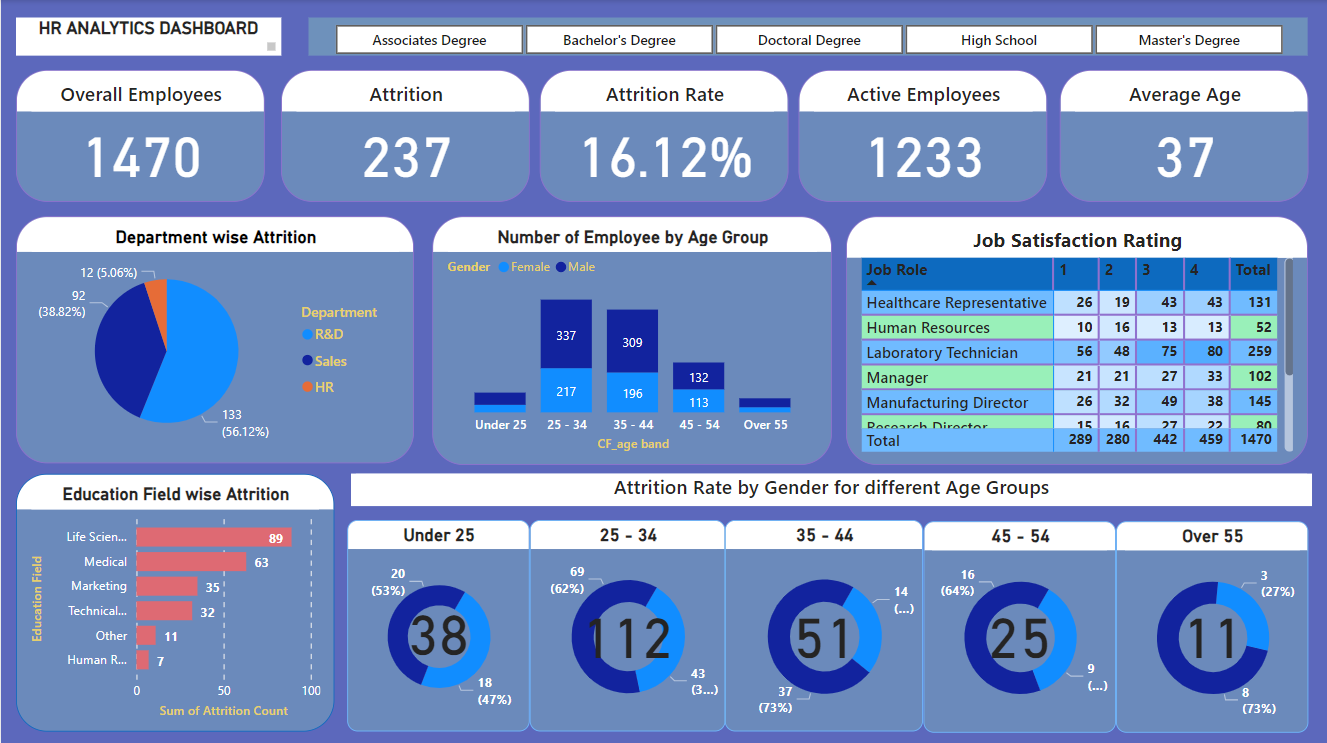

The dashboard page shown, as its layout file describes it:
{"tool":"powerbi","page":{"name":"Page 1","canvas":[1280,720],"ordinal":0},"visuals":[{"type":"card","title":"Overall Employees","fields":{"Values":["Sum(HR data.Employee Count)"]},"box":[14.3,67.1,240,127.1],"z":0},{"type":"card","title":"Attrition","fields":{"Values":["Sum(HR data.Attrition Count)"]},"box":[270,67.1,240,127.1],"z":1000},{"type":"card","title":"Attrition Rate","fields":{"Values":["HR data.Attrition Rate"]},"box":[520,67.1,240,127.1],"z":2000},{"type":"card","title":"Active Employees","fields":{"Values":["HR data.Active Employees"]},"box":[770,67.1,240,127.1],"z":3000},{"type":"card","title":"Average Age","fields":{"Values":["Avg(HR data.Age)"]},"box":[1021.4,67.1,240,127.1],"z":4000},{"type":"pieChart","title":"Department wise Attrition","fields":{"Category":["HR data.Department"],"Y":["Sum(HR data.Attrition Count)"]},"box":[14.3,208.6,384.3,238.6],"z":5000},{"type":"columnChart","title":"Number of Employee by Age Group","fields":{"Category":["HR data.CF_age band"],"Y":["Sum(HR data.Employee Count)"],"Series":["HR data.Gender"]},"box":[415.7,208.6,385.7,240],"z":6000},{"type":"pivotTable","title":"Job Satisfaction Rating","fields":{"Rows":["HR data.Job Role"],"Columns":["HR data.Job Satisfaction"],"Values":["Sum(HR data.Employee Count)"]},"box":[815.7,208.6,445.7,240],"z":7000},{"type":"barChart","title":"Education Field wise Attrition","fields":{"Category":["HR data.Education Field"],"Y":["Sum(HR data.Attrition Count)"]},"box":[14.3,457.1,307.1,248.6],"z":8000},{"type":"donutChart","title":"Under 25","fields":{"Category":["HR data.Gender"],"Y":["Sum(HR data.Attrition Count)"],"Series":["HR data.CF_age band"]},"box":[334.3,501.4,175.7,204.3],"z":9000},{"type":"textbox","title":"Attrition Rate by Gender for different Age Groups ","box":[337.1,457.1,927.1,31.4],"z":10000},{"type":"donutChart","title":"25 - 34","fields":{"Category":["HR data.Gender"],"Y":["Sum(HR data.Attrition Count)"],"Series":["HR data.CF_age band"]},"box":[510,501.4,188.6,204.3],"z":11000},{"type":"donutChart","title":"35 - 44","fields":{"Category":["HR data.Gender"],"Y":["Sum(HR data.Attrition Count)"],"Series":["HR data.CF_age band"]},"box":[698.6,501.4,191.4,204.3],"z":12000},{"type":"donutChart","title":"45 - 54","fields":{"Category":["HR data.Gender"],"Y":["Sum(HR data.Attrition Count)"],"Series":["HR data.CF_age band"]},"box":[890,502.9,185.7,204.3],"z":13000},{"type":"donutChart","title":"Over 55","fields":{"Category":["HR data.Gender"],"Y":["Sum(HR data.Attrition Count)"],"Series":["HR data.CF_age band"]},"box":[1075.7,502.9,185.7,204.3],"z":14000},{"type":"card","fields":{"Values":["Sum(HR data.Attrition Count)"]},"box":[390,577.1,65.7,55.7],"z":15000},{"type":"card","fields":{"Values":["Sum(HR data.Attrition Count)"]},"box":[558.6,581.4,91.4,55.7],"z":16000},{"type":"card","fields":{"Values":["Sum(HR data.Attrition Count)"]},"box":[761.4,581.4,65.7,55.7],"z":17000},{"type":"card","fields":{"Values":["Sum(HR data.Attrition Count)"]},"box":[950,581.4,65.7,55.7],"z":18000},{"type":"card","fields":{"Values":["Sum(HR data.Attrition Count)"]},"box":[1135.7,581.4,65.7,55.7],"z":19000},{"type":"textbox","title":"HR ANALYTICS DASHBOARD","box":[14.3,17.1,255.7,37.1],"z":20000},{"type":"slicer","fields":{"Values":["HR data.Education"]},"box":[297.1,17.1,964.3,37.1],"z":21000}]}

Visuals, with their boxes in screenshot pixels (x1, y1, x2, y2), scaled from the page's 1280x720 canvas onto the 1327x743 screenshot:
"Overall Employees" card: [left=15, top=69, right=264, bottom=200]
"Attrition" card: [left=280, top=69, right=529, bottom=200]
"Attrition Rate" card: [left=539, top=69, right=788, bottom=200]
"Active Employees" card: [left=798, top=69, right=1047, bottom=200]
"Average Age" card: [left=1059, top=69, right=1308, bottom=200]
"Department wise Attrition" pieChart: [left=15, top=215, right=413, bottom=461]
"Number of Employee by Age Group" columnChart: [left=431, top=215, right=831, bottom=463]
"Job Satisfaction Rating" pivotTable: [left=846, top=215, right=1308, bottom=463]
"Education Field wise Attrition" barChart: [left=15, top=472, right=333, bottom=728]
"Under 25" donutChart: [left=347, top=517, right=529, bottom=728]
"Attrition Rate by Gender for different Age Groups " textbox: [left=349, top=472, right=1311, bottom=504]
"25 - 34" donutChart: [left=529, top=517, right=724, bottom=728]
"35 - 44" donutChart: [left=724, top=517, right=923, bottom=728]
"45 - 54" donutChart: [left=923, top=519, right=1115, bottom=730]
"Over 55" donutChart: [left=1115, top=519, right=1308, bottom=730]
card - Sum(HR data.Attrition Count): [left=404, top=596, right=472, bottom=653]
card - Sum(HR data.Attrition Count): [left=579, top=600, right=674, bottom=657]
card - Sum(HR data.Attrition Count): [left=789, top=600, right=857, bottom=657]
card - Sum(HR data.Attrition Count): [left=985, top=600, right=1053, bottom=657]
card - Sum(HR data.Attrition Count): [left=1177, top=600, right=1246, bottom=657]
"HR ANALYTICS DASHBOARD" textbox: [left=15, top=18, right=280, bottom=56]
slicer - HR data.Education: [left=308, top=18, right=1308, bottom=56]
